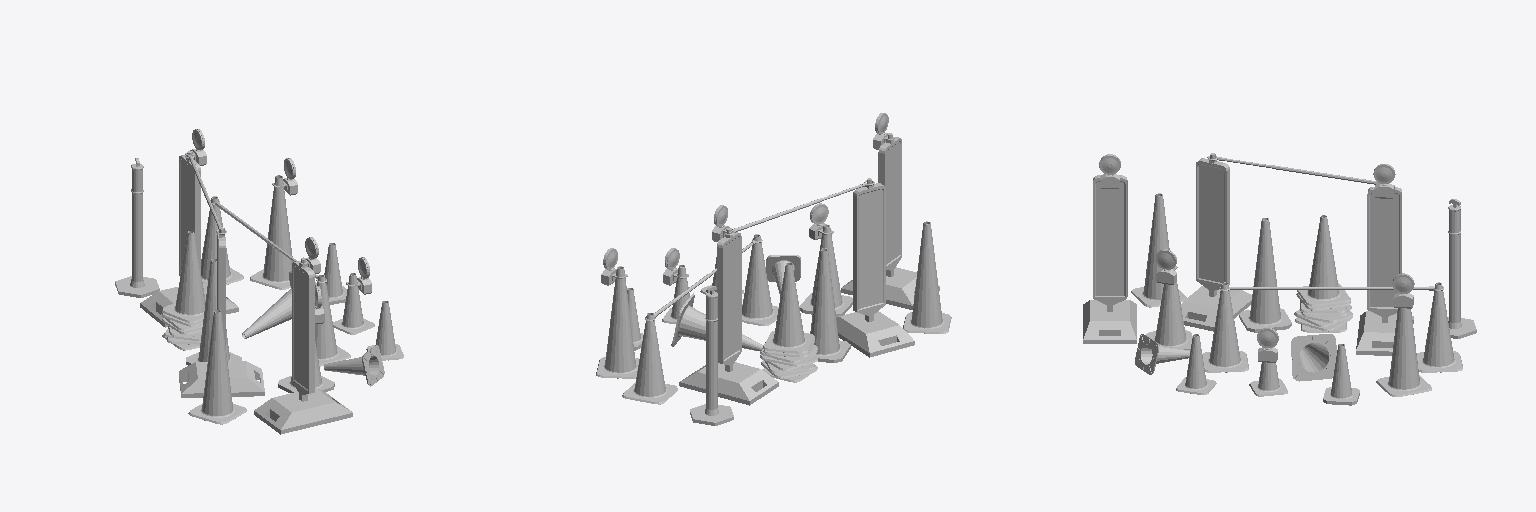
File: trafficCones.obj
The picture shows the model from 3 angles: view 1: azimuth 30°, elevation 25°; view 2: azimuth 150°, elevation 25°; view 3: azimuth 270°, elevation 25°; orthographic projection.
Visible parts, largest first — view 1: Vertical_Panel_1.002_Cones_Mat_0, Vertical_Panel_1.001_Cones_Mat_0, Vertical_Panel_1.003_Cones_Mat_0, Traffic_Cone_3_2.003_Cones_Mat_0, Traffic_Cone_3_2.001_Cones_Mat_0, Bollard_1.001_Cones_Mat_0, Traffic_Cone_2_2.011_Cones_Mat_0, Traffic_Cone_2_2.002_Cones_Mat_0, Traffic_Cone_3_1.001_Cones_Mat_0, Traffic_Cone_1_2.002_Cones_Mat_0, Traffic_Cone_2_2.003_Cones_Mat_0, Traffic_Cone_1_2.004_Cones_Mat_0 (+4 smaller); view 2: Vertical_Panel_1.003_Cones_Mat_0, Vertical_Panel_1.001_Cones_Mat_0, Vertical_Panel_1.002_Cones_Mat_0, Traffic_Cone_3_2.003_Cones_Mat_0, Traffic_Cone_3_2.001_Cones_Mat_0, Traffic_Cone_3_1.001_Cones_Mat_0, Bollard_1.001_Cones_Mat_0, Traffic_Cone_2_2.011_Cones_Mat_0, Traffic_Cone_2_2.003_Cones_Mat_0, Traffic_Cone_2_2.002_Cones_Mat_0, Traffic_Cone_2_2.012_Cones_Mat_0, Traffic_Cone_2_1.001_Cones_Mat_0 (+3 smaller); view 3: Vertical_Panel_1.002_Cones_Mat_0, Vertical_Panel_1.003_Cones_Mat_0, Vertical_Panel_1.001_Cones_Mat_0, Traffic_Cone_3_1.001_Cones_Mat_0, Traffic_Cone_3_2.001_Cones_Mat_0, Traffic_Cone_2_2.002_Cones_Mat_0, Traffic_Cone_2_2.003_Cones_Mat_0, Traffic_Cone_2_2.011_Cones_Mat_0, Traffic_Cone_2_2.012_Cones_Mat_0, Bollard_1.001_Cones_Mat_0, Traffic_Cone_3_2.003_Cones_Mat_0, Traffic_Cone_2_1.001_Cones_Mat_0 (+9 smaller).
Boxes of the visible parts, <box> form: Vertical_Panel_1.002_Cones_Mat_0: <box>254,257,352,434</box>; Vertical_Panel_1.001_Cones_Mat_0: <box>140,151,238,327</box>; Vertical_Panel_1.003_Cones_Mat_0: <box>179,227,264,397</box>; Traffic_Cone_3_2.003_Cones_Mat_0: <box>188,310,246,424</box>; Traffic_Cone_3_2.001_Cones_Mat_0: <box>250,175,292,289</box>; Bollard_1.001_Cones_Mat_0: <box>115,158,159,297</box>; Traffic_Cone_2_2.011_Cones_Mat_0: <box>161,231,205,322</box>; Traffic_Cone_2_2.002_Cones_Mat_0: <box>315,275,350,366</box>; Traffic_Cone_3_1.001_Cones_Mat_0: <box>186,259,241,365</box>; Traffic_Cone_1_2.002_Cones_Mat_0: <box>324,345,384,386</box>; Traffic_Cone_2_2.003_Cones_Mat_0: <box>201,196,243,284</box>; Traffic_Cone_1_2.004_Cones_Mat_0: <box>333,273,374,334</box>; Vertical_Panel_1.003_Cones_Mat_0: <box>836,178,914,357</box>; Vertical_Panel_1.001_Cones_Mat_0: <box>679,228,778,405</box>; Vertical_Panel_1.002_Cones_Mat_0: <box>841,133,939,309</box>; Traffic_Cone_3_2.003_Cones_Mat_0: <box>903,221,951,333</box>; Traffic_Cone_3_2.001_Cones_Mat_0: <box>596,266,638,378</box>; Traffic_Cone_3_1.001_Cones_Mat_0: <box>810,248,850,362</box>; Bollard_1.001_Cones_Mat_0: <box>690,286,733,425</box>; Traffic_Cone_2_2.011_Cones_Mat_0: <box>763,263,814,353</box>; Traffic_Cone_2_2.003_Cones_Mat_0: <box>622,313,677,404</box>; Traffic_Cone_2_2.002_Cones_Mat_0: <box>742,234,778,325</box>; Traffic_Cone_2_2.012_Cones_Mat_0: <box>671,293,763,351</box>; Traffic_Cone_2_1.001_Cones_Mat_0: <box>799,225,852,317</box>; Vertical_Panel_1.002_Cones_Mat_0: <box>1083,175,1136,343</box>; Vertical_Panel_1.003_Cones_Mat_0: <box>1181,153,1251,331</box>; Vertical_Panel_1.001_Cones_Mat_0: <box>1356,187,1413,355</box>; Traffic_Cone_3_1.001_Cones_Mat_0: <box>1239,218,1291,332</box>; Traffic_Cone_3_2.001_Cones_Mat_0: <box>1376,308,1431,396</box>; Traffic_Cone_2_2.002_Cones_Mat_0: <box>1202,282,1248,372</box>; Traffic_Cone_2_2.003_Cones_Mat_0: <box>1417,282,1462,372</box>; Traffic_Cone_2_2.011_Cones_Mat_0: <box>1297,215,1350,306</box>; Traffic_Cone_2_2.012_Cones_Mat_0: <box>1291,334,1336,381</box>; Bollard_1.001_Cones_Mat_0: <box>1448,199,1476,338</box>; Traffic_Cone_3_2.003_Cones_Mat_0: <box>1131,193,1186,307</box>; Traffic_Cone_2_1.001_Cones_Mat_0: <box>1146,267,1192,350</box>.
Size of the model in its own units: 1.78 by 1.24 by 2.47.